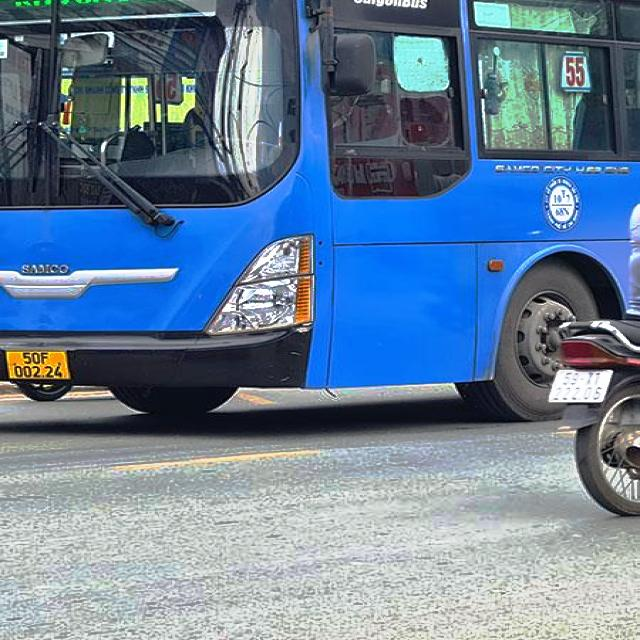license_plate: (546, 370, 617, 404), (6, 352, 74, 381)
